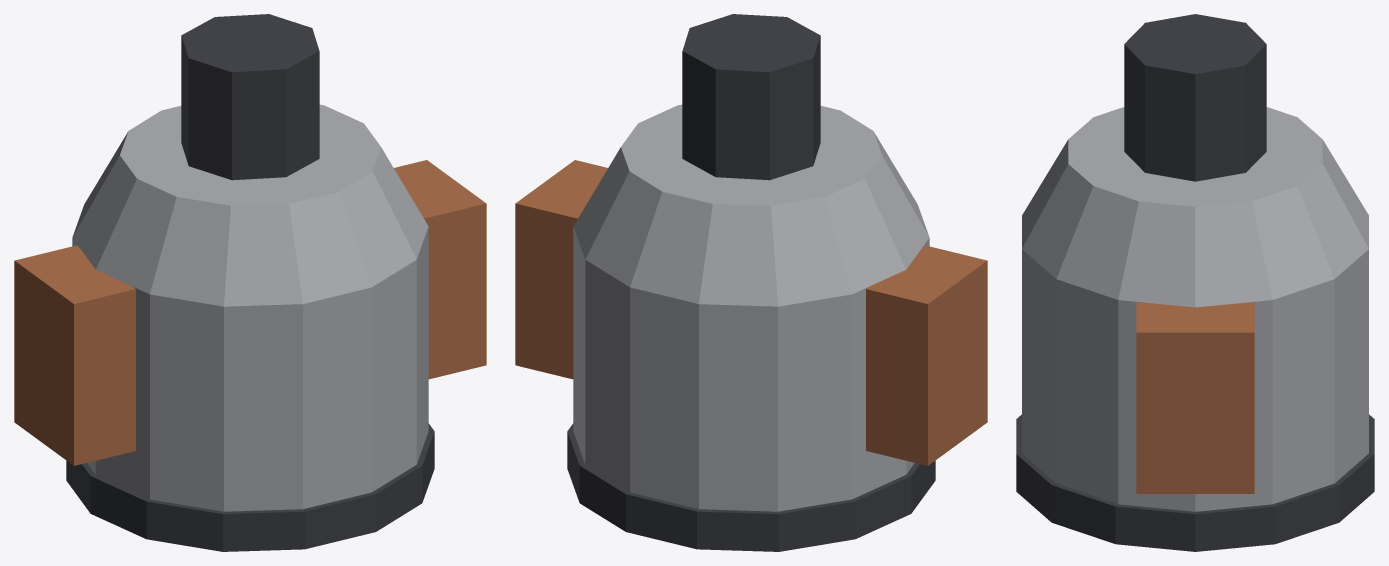
File: Thr_Ion.fbx
The picture shows the model from 3 angles, left to right: view 1: azimuth 30°, elevation 25°; view 2: azimuth 150°, elevation 25°; view 3: azimuth 270°, elevation 25°; orthographic projection.
Parts seen in each view (by area): view 1: Thr_Ion; view 2: Thr_Ion; view 3: Thr_Ion.
Boxes of the visible parts, x1=… form: Thr_Ion: x1=14, y1=14, x2=486, y2=551; Thr_Ion: x1=515, y1=14, x2=987, y2=551; Thr_Ion: x1=1016, y1=14, x2=1374, y2=551.
Bounding box in the file's own units: 0.8 × 0.8 × 0.6045.
1 material, 1 textured.
